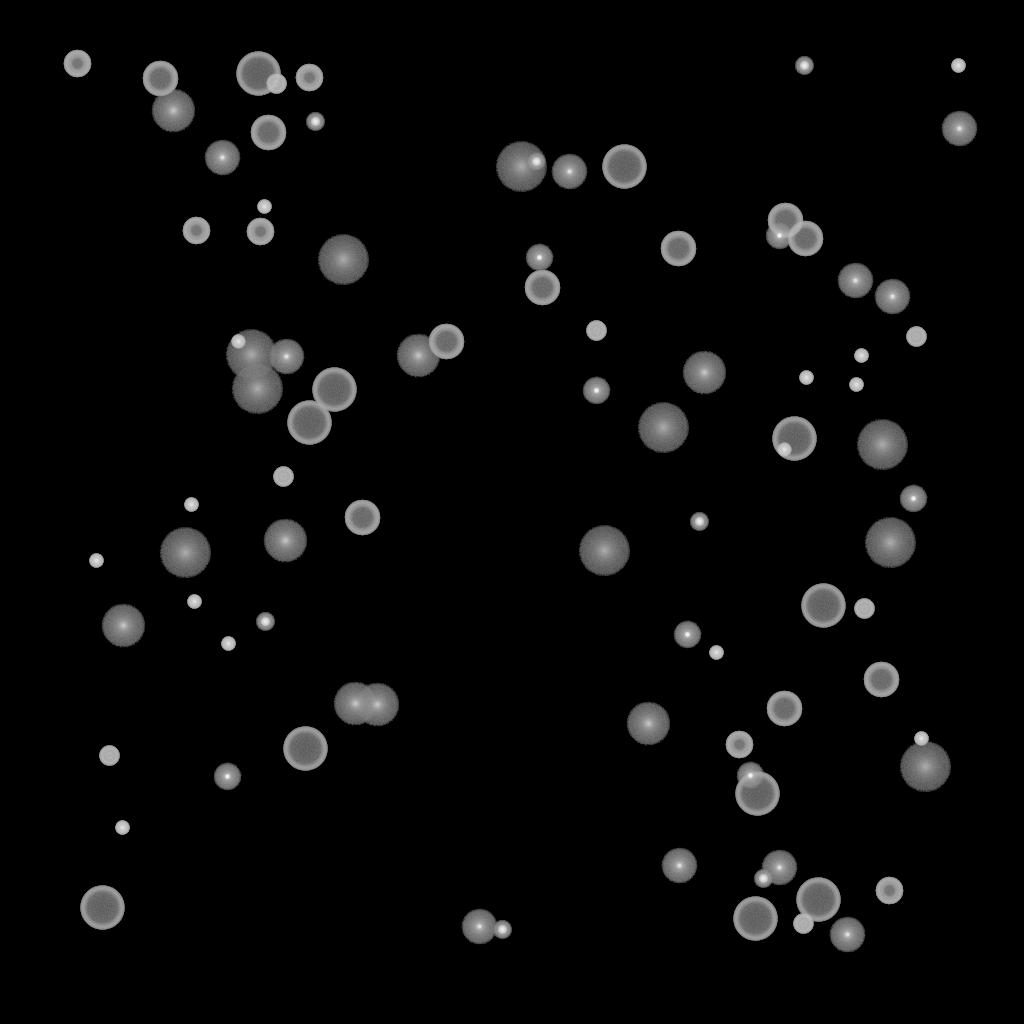depth:-10: (582, 377, 610, 405), (525, 244, 553, 272), (765, 222, 793, 250), (673, 621, 701, 649), (736, 762, 764, 790), (899, 485, 927, 513), (213, 763, 241, 791)
depth:-20: (527, 153, 545, 171), (754, 870, 772, 888), (306, 113, 324, 131), (256, 613, 274, 631), (795, 57, 813, 75), (493, 921, 511, 939), (690, 513, 708, 531)
depth:-30: (849, 378, 863, 392), (777, 443, 791, 457), (854, 349, 868, 363), (115, 821, 129, 835), (187, 595, 201, 609), (799, 371, 813, 385), (221, 637, 235, 651), (951, 59, 965, 73), (709, 646, 723, 660), (89, 554, 103, 568), (257, 200, 271, 214), (914, 732, 928, 746), (231, 335, 245, 349), (184, 498, 198, 512)
depth:-40: (99, 746, 119, 766), (266, 74, 286, 94), (793, 914, 813, 934), (586, 321, 606, 341), (273, 467, 293, 487), (906, 327, 926, 347), (854, 599, 874, 619)
depth:-50: (875, 877, 903, 905), (295, 64, 323, 92), (246, 218, 274, 246), (63, 50, 91, 78), (725, 731, 753, 759), (182, 217, 210, 245)
depth:-60: (660, 231, 696, 267), (142, 61, 178, 97), (250, 115, 286, 151), (344, 500, 380, 536), (767, 203, 803, 239), (766, 691, 802, 727), (428, 324, 464, 360), (524, 270, 560, 306), (787, 221, 823, 257), (863, 662, 899, 698)
depth:-70: (772, 417, 816, 461), (735, 772, 779, 816), (236, 52, 280, 96), (796, 878, 840, 922), (80, 886, 124, 930), (287, 401, 331, 445), (283, 727, 327, 771), (801, 584, 845, 628), (312, 368, 356, 412), (733, 897, 777, 941), (602, 145, 646, 189)
depth:0: (204, 140, 240, 176), (461, 909, 497, 945), (941, 111, 977, 147), (551, 154, 587, 190), (874, 279, 910, 315), (829, 917, 865, 953), (268, 339, 304, 375), (837, 263, 873, 299), (761, 850, 797, 886), (661, 848, 697, 884)
depth:10: (151, 89, 195, 133), (101, 604, 145, 648), (333, 682, 377, 726), (355, 683, 399, 727), (396, 334, 440, 378), (626, 702, 670, 746), (682, 351, 726, 395), (263, 519, 307, 563)
depth:20: (231, 364, 283, 414), (864, 518, 916, 568), (495, 142, 547, 192), (899, 742, 951, 792), (637, 403, 689, 453), (856, 420, 908, 470), (225, 330, 277, 380), (578, 526, 630, 576), (159, 528, 211, 578), (317, 235, 369, 285)
